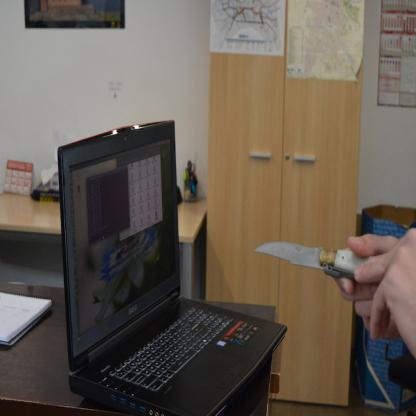knife: (246, 225, 374, 288)
